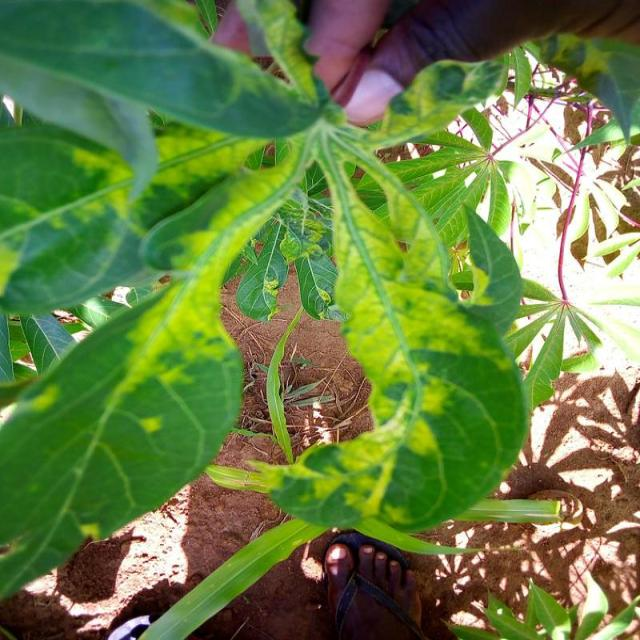cassava leaf: (0, 0, 536, 612), (253, 155, 532, 549), (0, 278, 245, 602)
